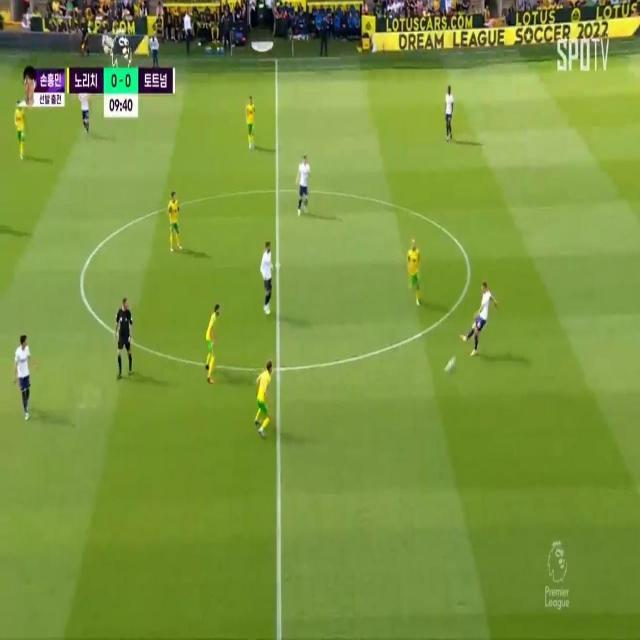ball: (445, 348, 458, 380)
player: (470, 280, 493, 361), (255, 359, 276, 431), (206, 294, 221, 386), (17, 336, 34, 410), (408, 236, 425, 306), (165, 192, 183, 252), (294, 147, 310, 213), (13, 98, 29, 158), (262, 239, 273, 309), (246, 95, 259, 152), (79, 84, 91, 137), (443, 83, 453, 144)
referee: (116, 295, 136, 374)
